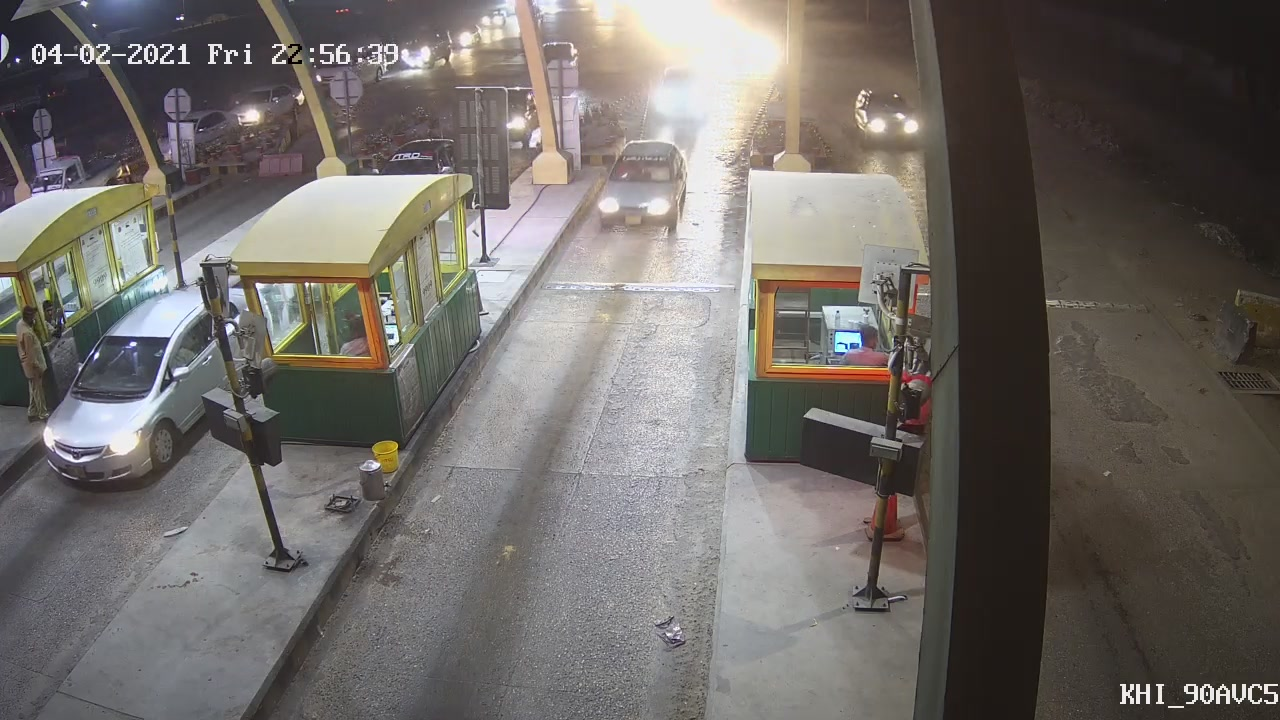F1: (598, 134, 689, 236)
